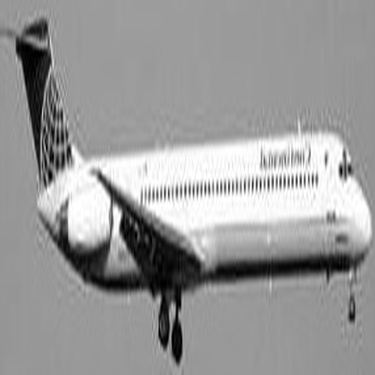airplane: (15, 6, 366, 341)
